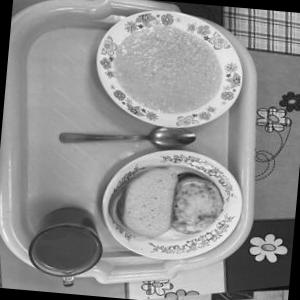bread: (113, 158, 179, 250)
cheese_sandwich: (168, 174, 228, 251)
coffee: (27, 199, 108, 285)
porridge: (92, 10, 241, 132)
